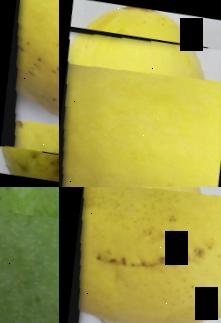Ripe: (59, 22, 221, 187), (59, 187, 221, 323), (0, 0, 59, 172)
Unripe: (0, 187, 59, 323)
